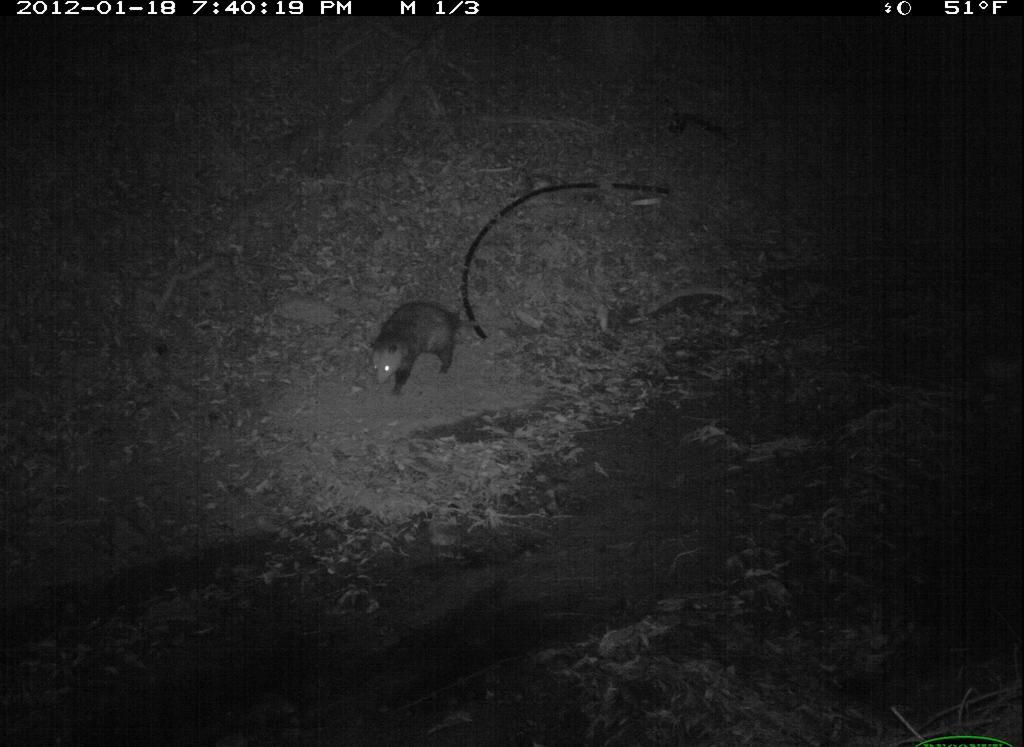opossum: (351, 295, 504, 401)
